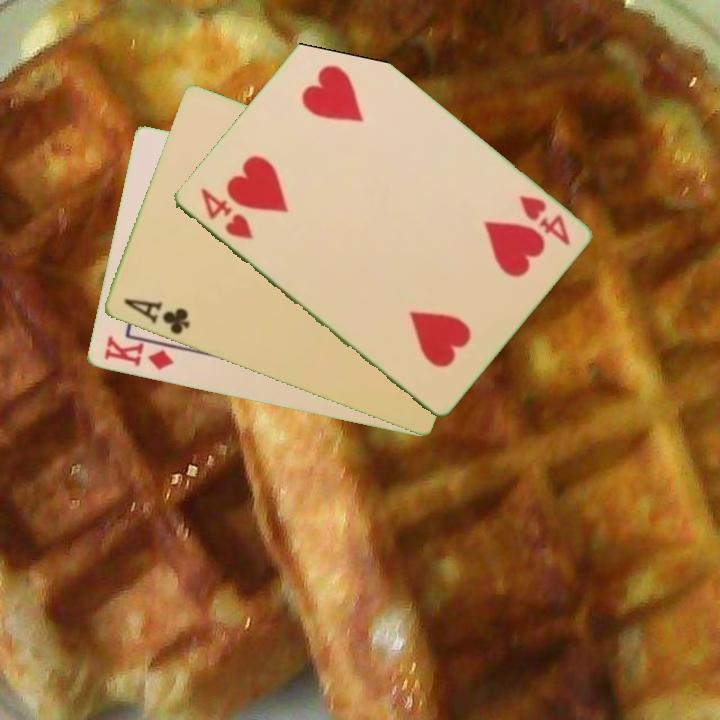4h: (196, 184, 256, 243), (515, 191, 573, 249)
Ac: (119, 294, 193, 338)
Kd: (100, 332, 177, 374)
